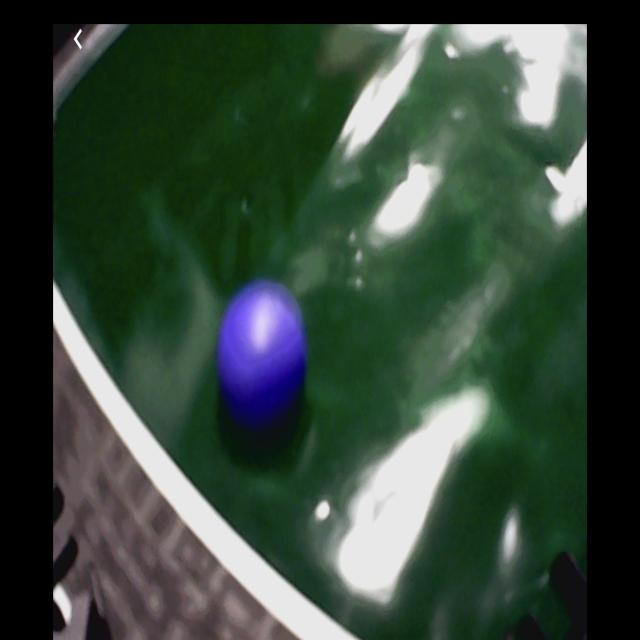ball: (219, 282, 308, 414)
